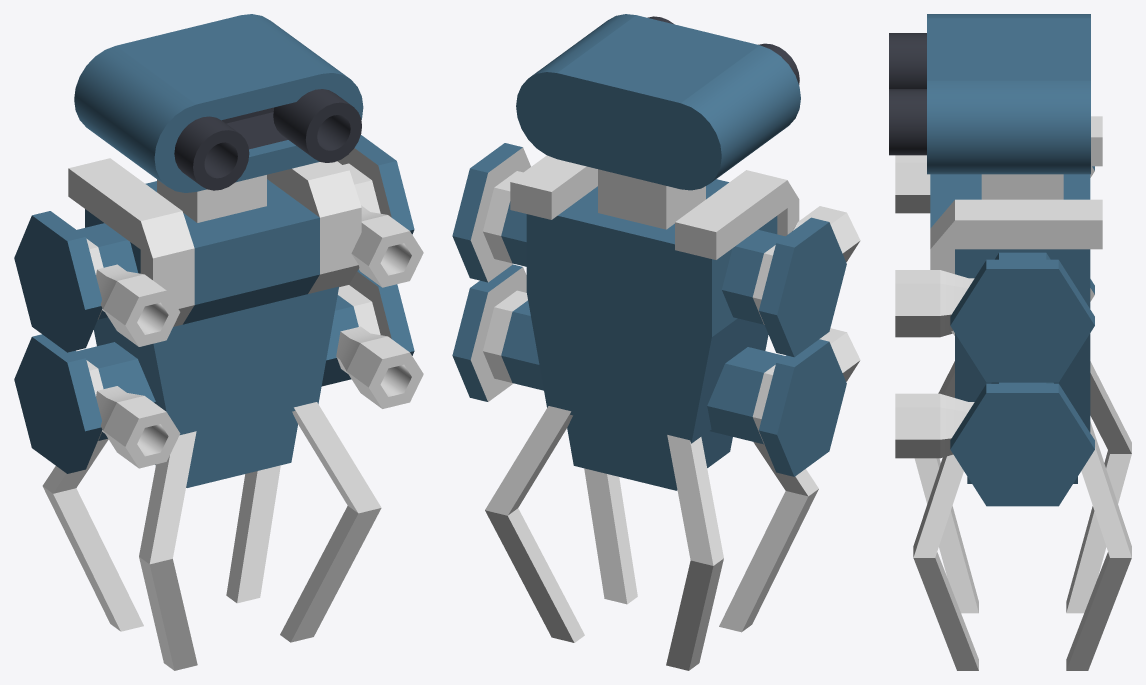
File: walking_03_03.obj
3 views of the same model, side by side, from view 1: azimuth 30°, elevation 25°; view 2: azimuth 150°, elevation 25°; view 3: azimuth 270°, elevation 25° (orthographic). The views are drawn at different scales.
Parts seen in each view (by area): view 1: mergedBlocks; view 2: mergedBlocks; view 3: mergedBlocks.
Part boxes in pixels (box(x1,y1,x2,y2)): mergedBlocks: box(14, 14, 423, 670); mergedBlocks: box(452, 14, 860, 670); mergedBlocks: box(889, 14, 1131, 670).
Bounding box in the file's own units: 1.42 × 2.37 × 0.889.
